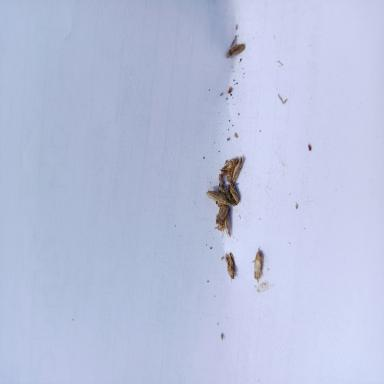pbw: (206, 188, 232, 206), (219, 156, 239, 175), (252, 251, 264, 279), (224, 252, 235, 282), (226, 42, 246, 58), (228, 180, 240, 202), (216, 204, 229, 224), (232, 156, 243, 179), (219, 187, 235, 201), (226, 175, 235, 189), (224, 218, 230, 237), (218, 174, 223, 188)
